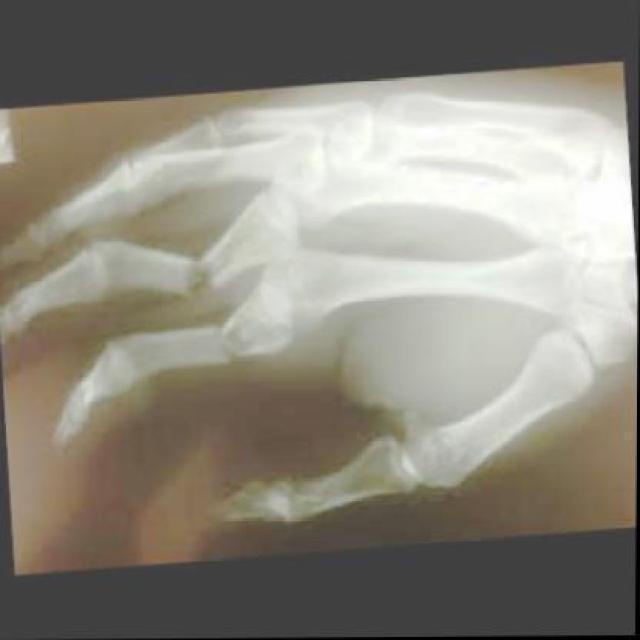Fracture: (157, 239, 233, 312), (193, 306, 264, 379)
